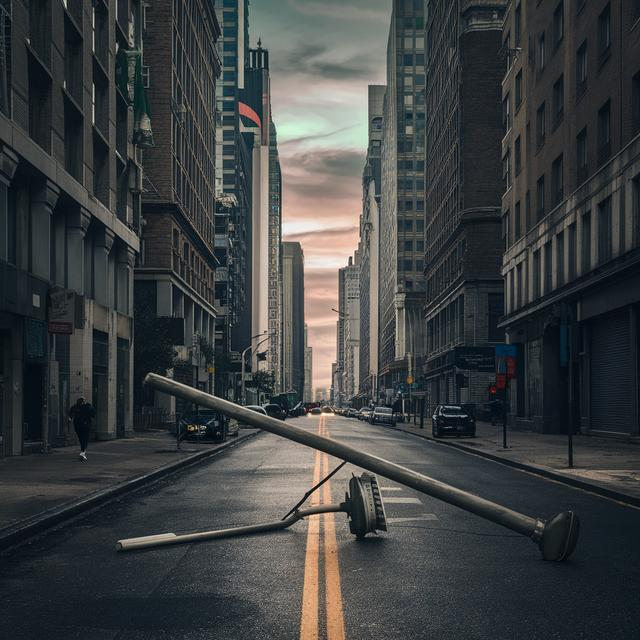Inclined Pole: (108, 363, 589, 577)
